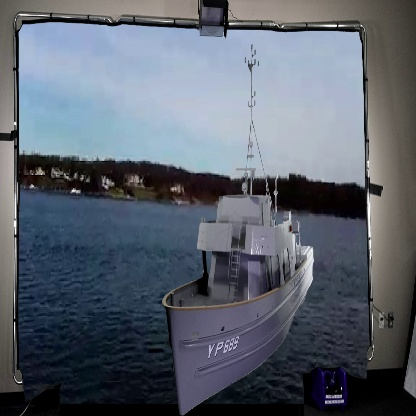YP689: (162, 49, 313, 416)
